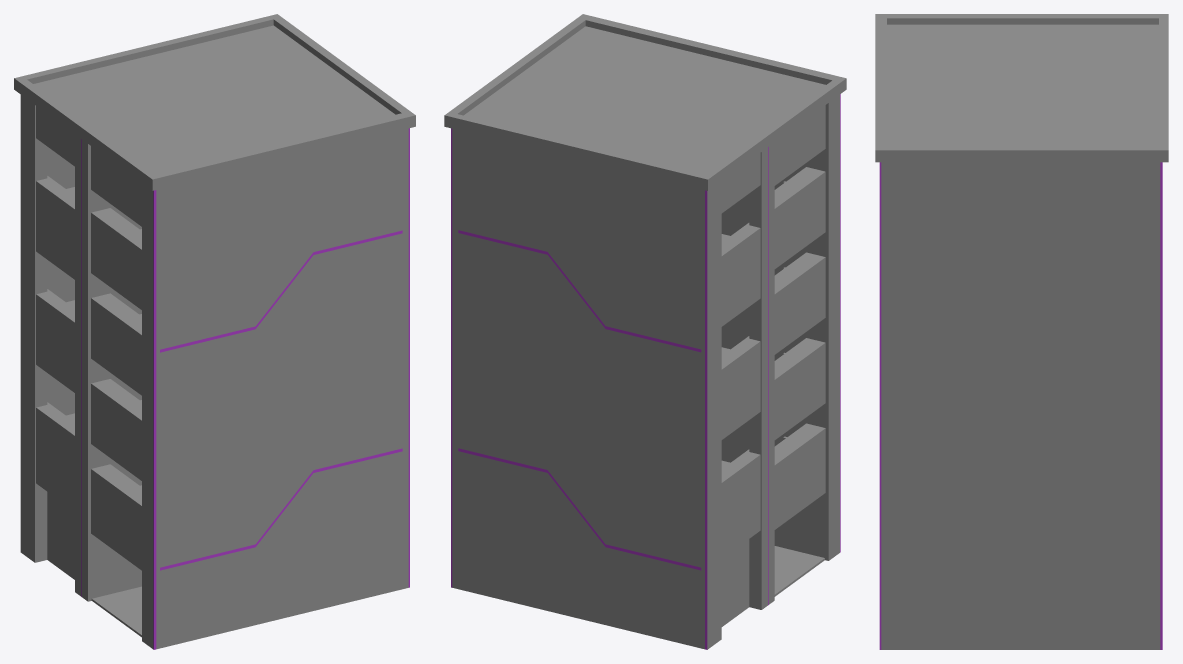
File: BuildingS_06.fbx
The picture shows the model from 3 angles, left to right: view 1: azimuth 30°, elevation 25°; view 2: azimuth 150°, elevation 25°; view 3: azimuth 270°, elevation 25°; orthographic projection. The views are drawn at different scales.
Visible parts, largest first — view 1: BuildingS_06; view 2: BuildingS_06; view 3: BuildingS_06.
Boxes of the visible parts, x1,y1,x2,y2 form: BuildingS_06: (14, 14, 415, 649); BuildingS_06: (444, 14, 846, 649); BuildingS_06: (875, 14, 1168, 649).
Bounding box in the file's own units: 0.2421 × 0.4155 × 0.2204.
